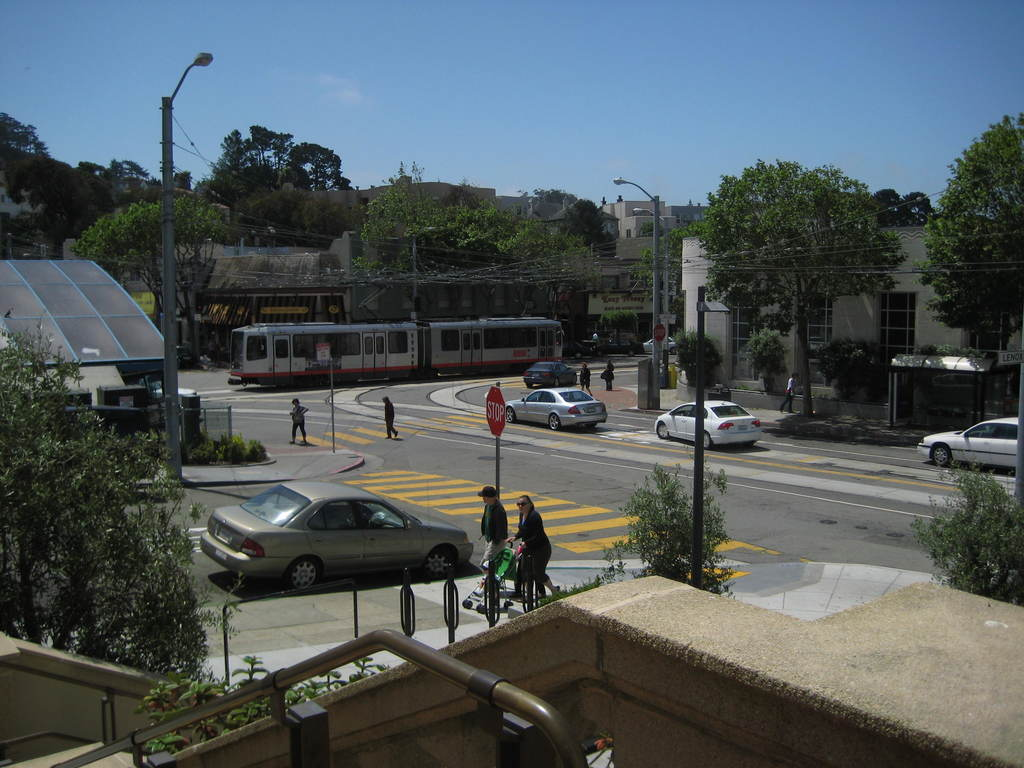mobil: (199, 483, 470, 580), (919, 412, 1024, 481), (650, 400, 763, 454), (506, 387, 612, 435)
